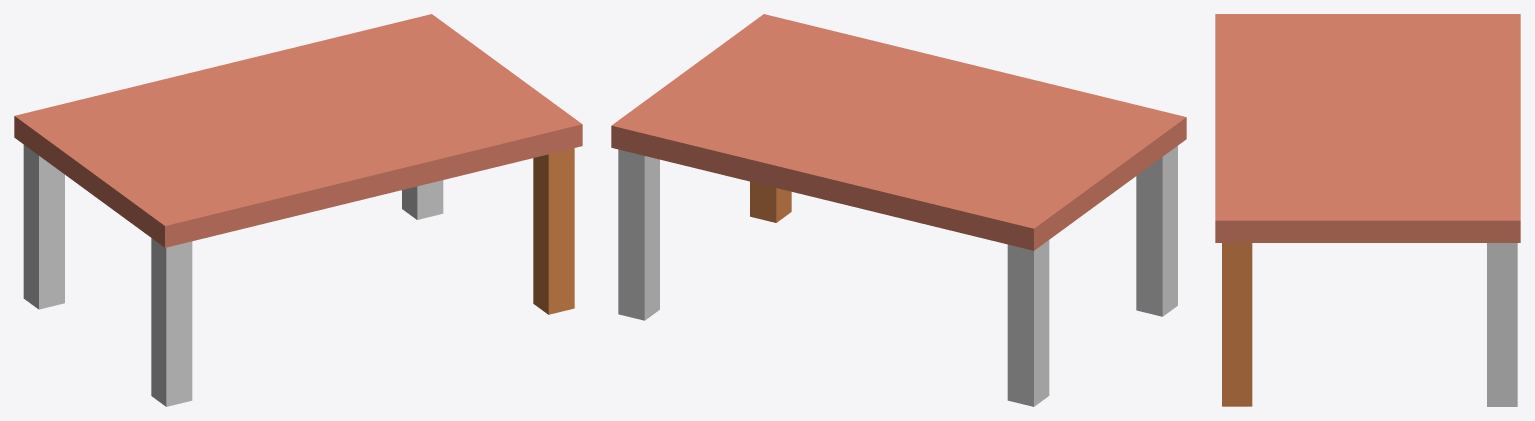
The picture shows the model from 3 angles, left to right: view 1: azimuth 30°, elevation 25°; view 2: azimuth 150°, elevation 25°; view 3: azimuth 270°, elevation 25°; orthographic projection.
Visible parts, largest first — view 1: Table top, Leg04, Leg03, Leg01, Leg02; view 2: Table top, Leg02, Leg01, Leg04, Leg03; view 3: Table top, Leg02, Leg03.
Part boxes in pixels (box(x1,y1,x2,y2)): Table top: box(14, 14, 582, 247); Leg04: box(151, 238, 192, 406); Leg03: box(533, 148, 574, 314); Leg01: box(23, 145, 64, 309); Leg02: box(402, 180, 443, 219); Table top: box(611, 14, 1186, 250); Leg02: box(618, 149, 659, 320); Leg01: box(1007, 240, 1049, 406); Leg04: box(1136, 146, 1177, 316); Leg03: box(750, 181, 791, 222); Table top: box(1215, 14, 1520, 242); Leg02: box(1487, 243, 1517, 406); Leg03: box(1222, 243, 1252, 406).
Bounding box in the file's own units: 8 × 3.41 × 5.
